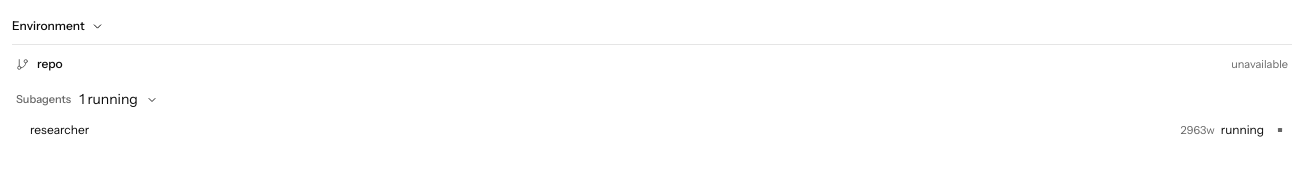
Test: resets auto-open for a new session scope
The image size is (1304, 172).
Click the button with aria-label "Collapse environment".
click(48, 26)  # box [12,12,1292,40]
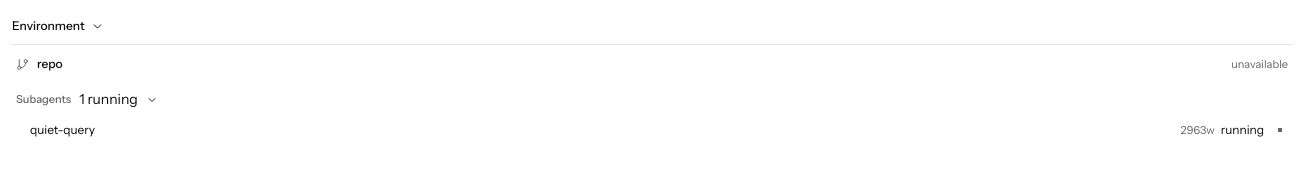
Check: the text "quiet-query" is shown, box [30,122,95,137]
